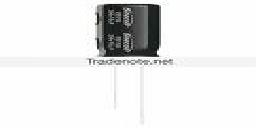Electrolytic-Capacitor: (91, 1, 160, 128)
